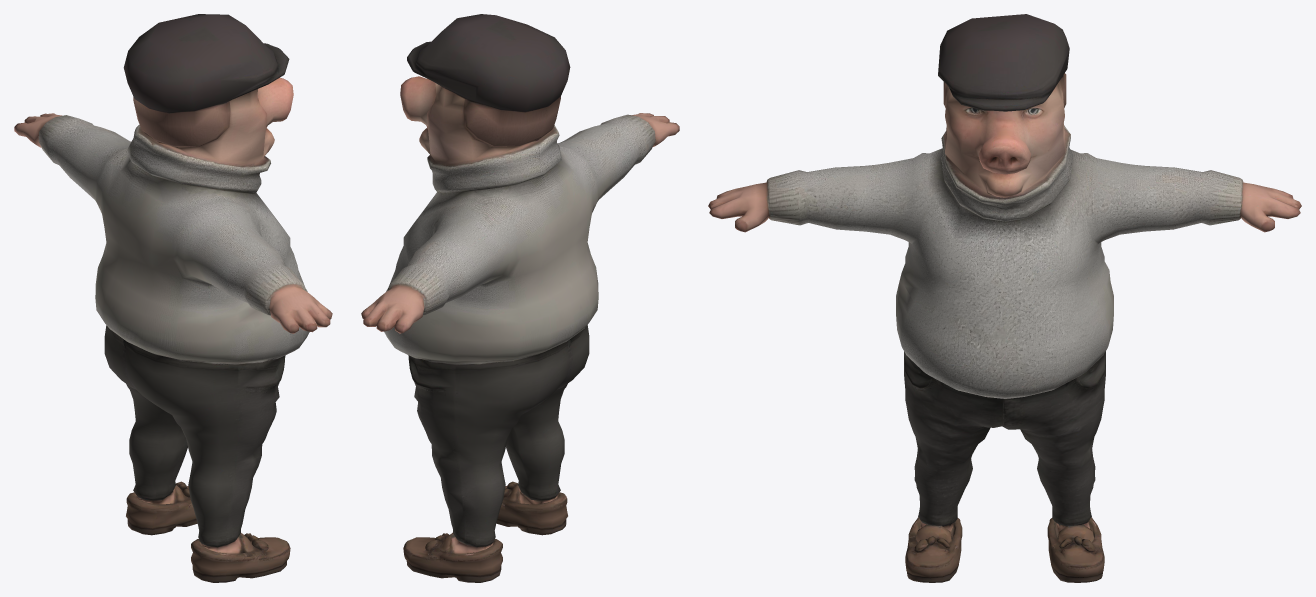
Rendered from janwieprzowina.fbx.
3 views of the same model, side by side, from view 1: azimuth 30°, elevation 25°; view 2: azimuth 150°, elevation 25°; view 3: azimuth 270°, elevation 25° (orthographic). The views are drawn at different scales.
Visible parts, largest first — view 1: tripo_node_ad63849e-c757-4eb6-8661-6f3c4272dc33; view 2: tripo_node_ad63849e-c757-4eb6-8661-6f3c4272dc33; view 3: tripo_node_ad63849e-c757-4eb6-8661-6f3c4272dc33.
Part boxes in pixels (bbox=[...]): tripo_node_ad63849e-c757-4eb6-8661-6f3c4272dc33: bbox=[14, 14, 332, 582]; tripo_node_ad63849e-c757-4eb6-8661-6f3c4272dc33: bbox=[361, 14, 679, 582]; tripo_node_ad63849e-c757-4eb6-8661-6f3c4272dc33: bbox=[708, 14, 1301, 582].
Size of the model in its own units: 37.38 by 100 by 99.61.
1 material, 1 textured.
